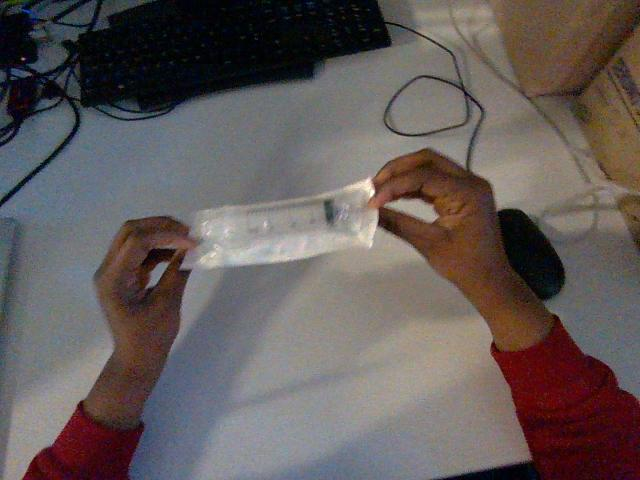syringe: (183, 179, 377, 268)
